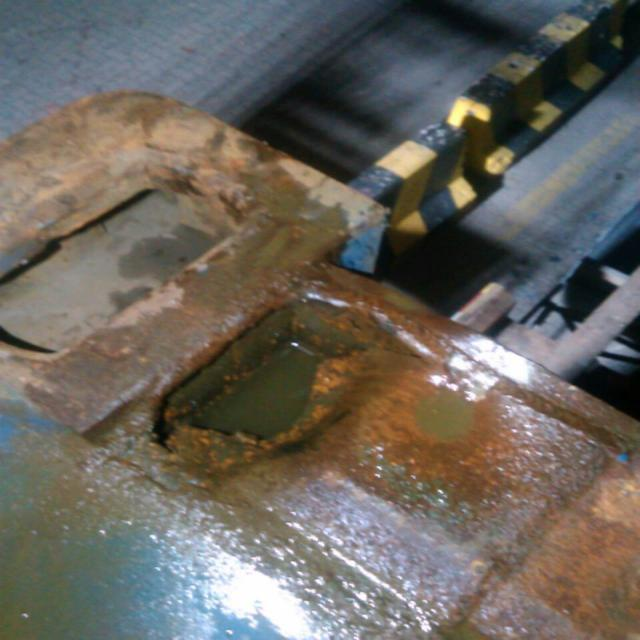hole: (153, 286, 410, 478)
